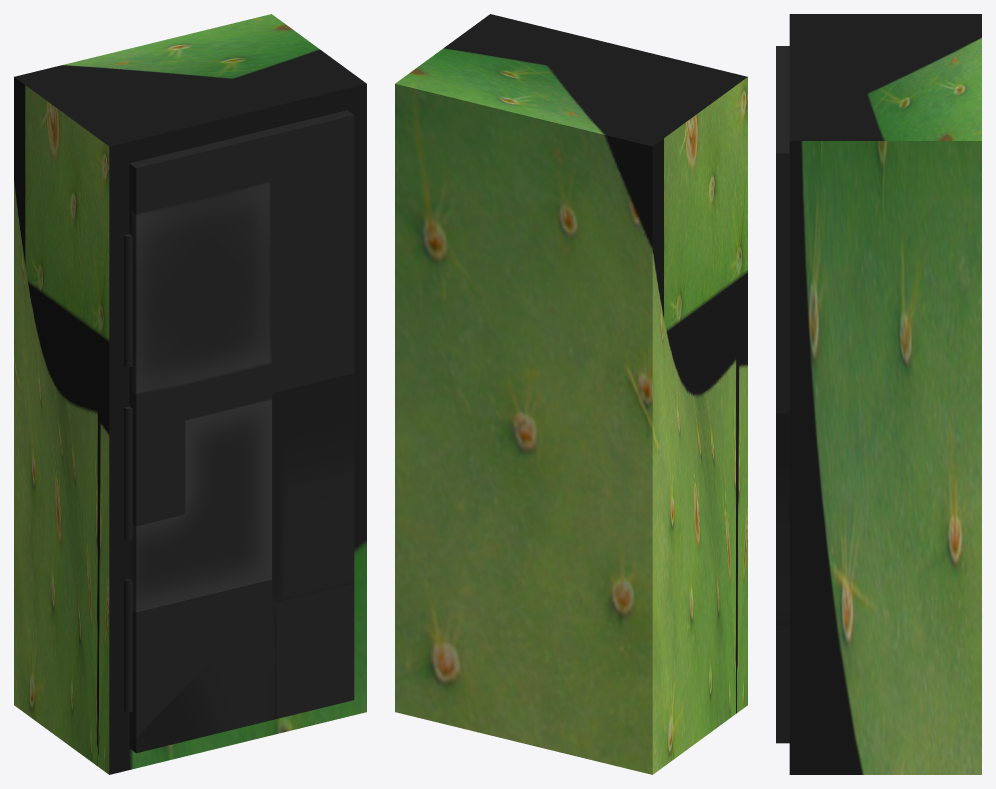
The model's file is Chest0.FBX.
3 renders of one model, left to right at view 1: azimuth 30°, elevation 25°; view 2: azimuth 150°, elevation 25°; view 3: azimuth 270°, elevation 25°, orthographic.
Parts seen in each view (by area): view 1: chestdoor0, chestbox0; view 2: chestbox0; view 3: chestbox0, chestdoor0.
Part boxes in pixels (x1,y1,x2,y2): chestdoor0: (124,110,354,753); chestbox0: (14,14,366,774); chestbox0: (395,14,747,774); chestbox0: (789,14,981,774); chestdoor0: (776,46,789,743).
Size of the model in its own units: 25.96 by 60.52 by 17.81.
2 materials, 2 textured.
